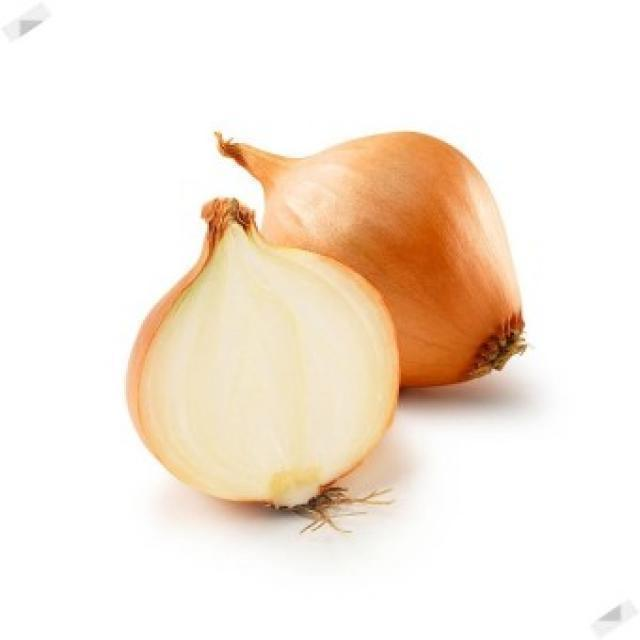Onion: (124, 199, 395, 534), (213, 132, 526, 386)
